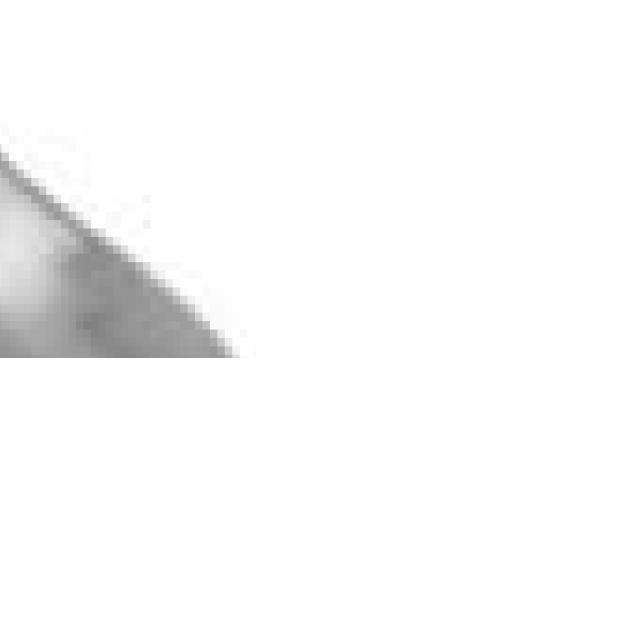spoons: (0, 0, 256, 358)
